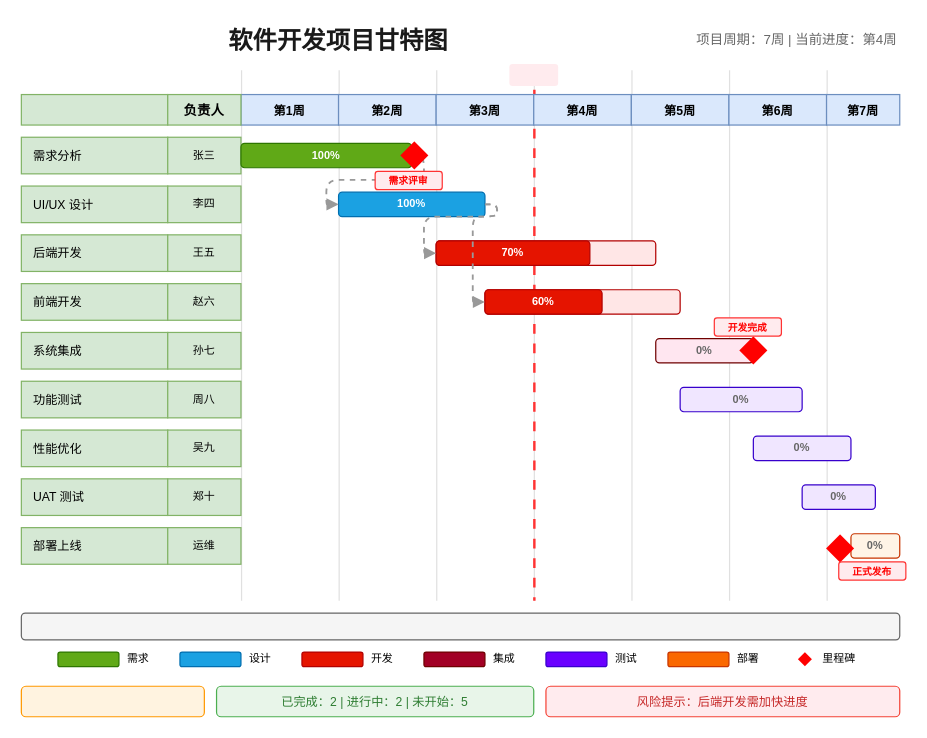
This 927x738 diagram has some shape labels left out. The centre of each missing label's shape, as x and y in pixels:
今天: the point at 533,74
任务名称: the point at 94,109
图例说明: the point at 460,626
总体进度：44%: the point at 112,701
